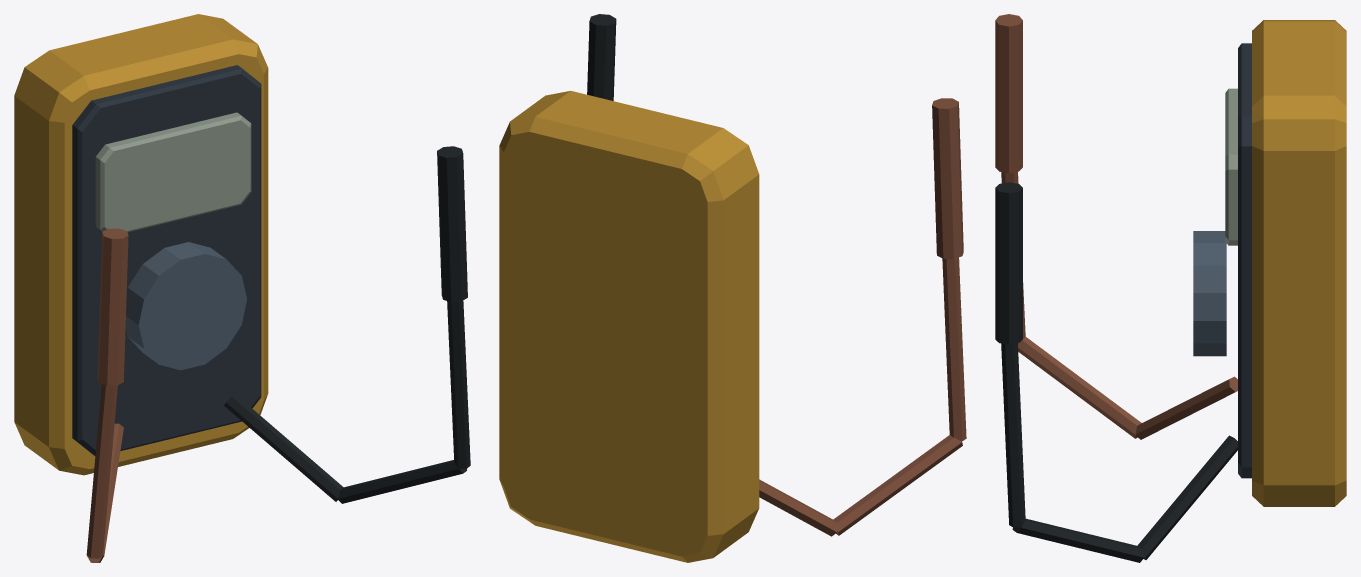
Rendered from T-07_multimeter.glb.
3 views of the same model, side by side, from view 1: azimuth 30°, elevation 25°; view 2: azimuth 150°, elevation 25°; view 3: azimuth 270°, elevation 25° (orthographic). The views are drawn at different scales.
Parts seen in each view (by area): view 1: T-07_multimeter; view 2: T-07_multimeter; view 3: T-07_multimeter.
Part boxes in pixels (box(x1,y1,x2,y2)): T-07_multimeter: box(14, 14, 470, 562); T-07_multimeter: box(499, 14, 966, 562); T-07_multimeter: box(995, 14, 1346, 562).
Size of the model in its own units: 0.1612 by 0.1744 by 0.126.
